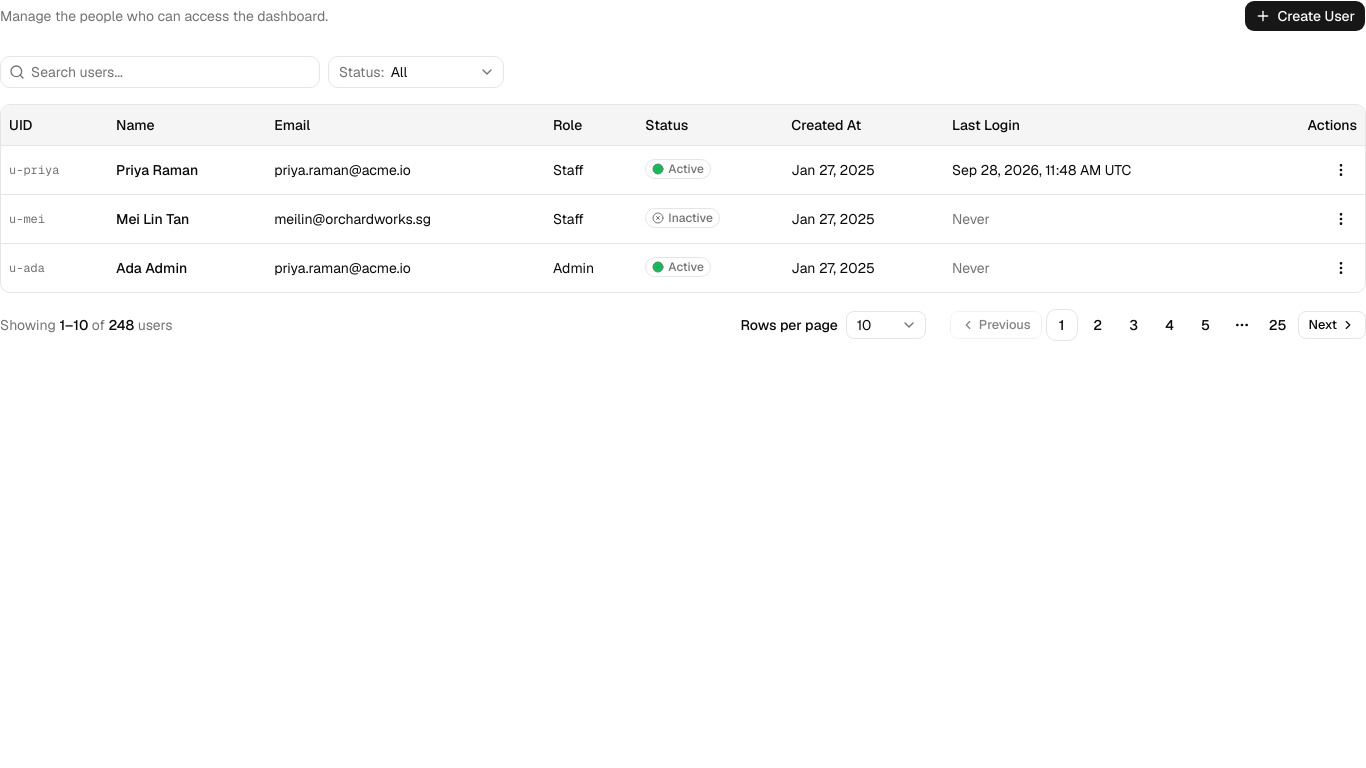
Test: UsersList row actions › saves only the fields that changed and reloads
Expected: the text "Priya Raman" is shown, [116,160,198,178]
Click the button named "Actions for Mei Lin Tan".
click(1341, 218)  # box [1325,202,1357,234]
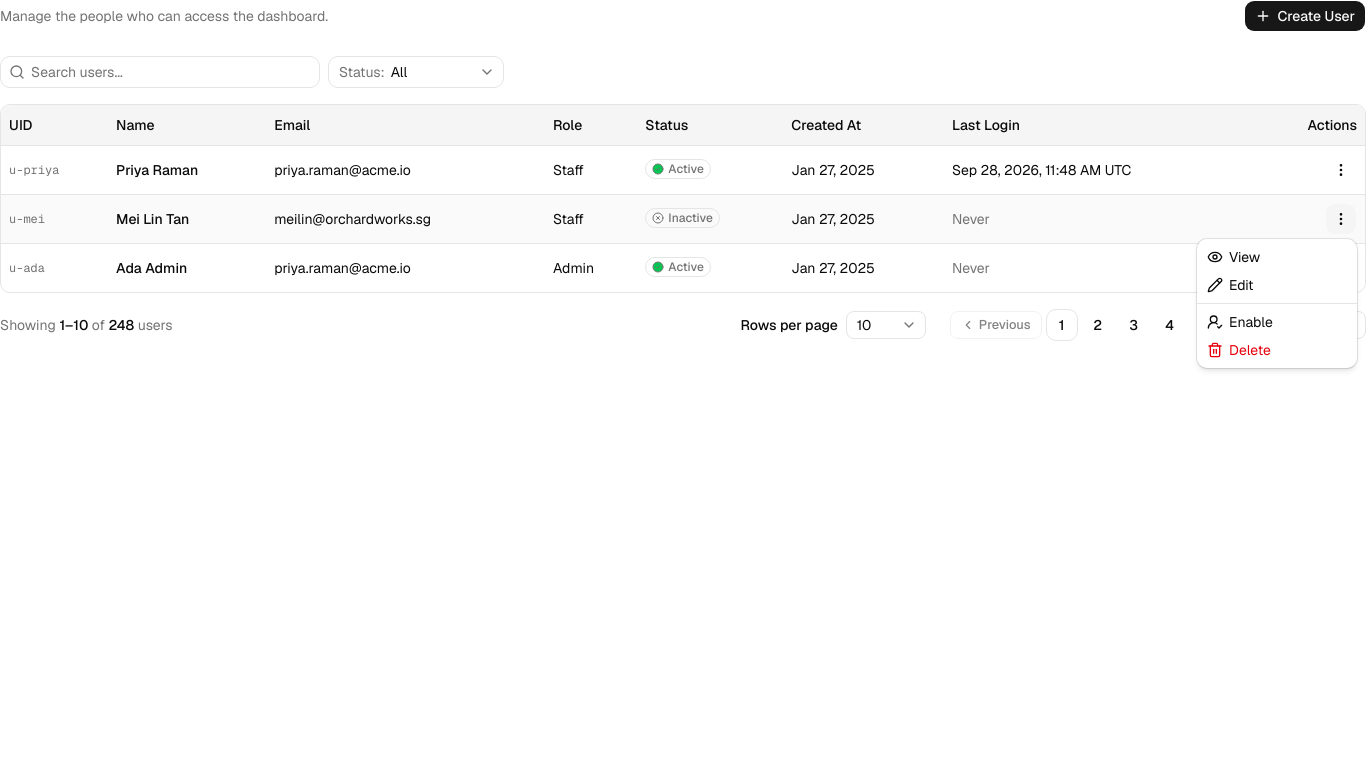
Click the menu item "Edit".
click(1230, 285)  # box [1207,276,1254,294]
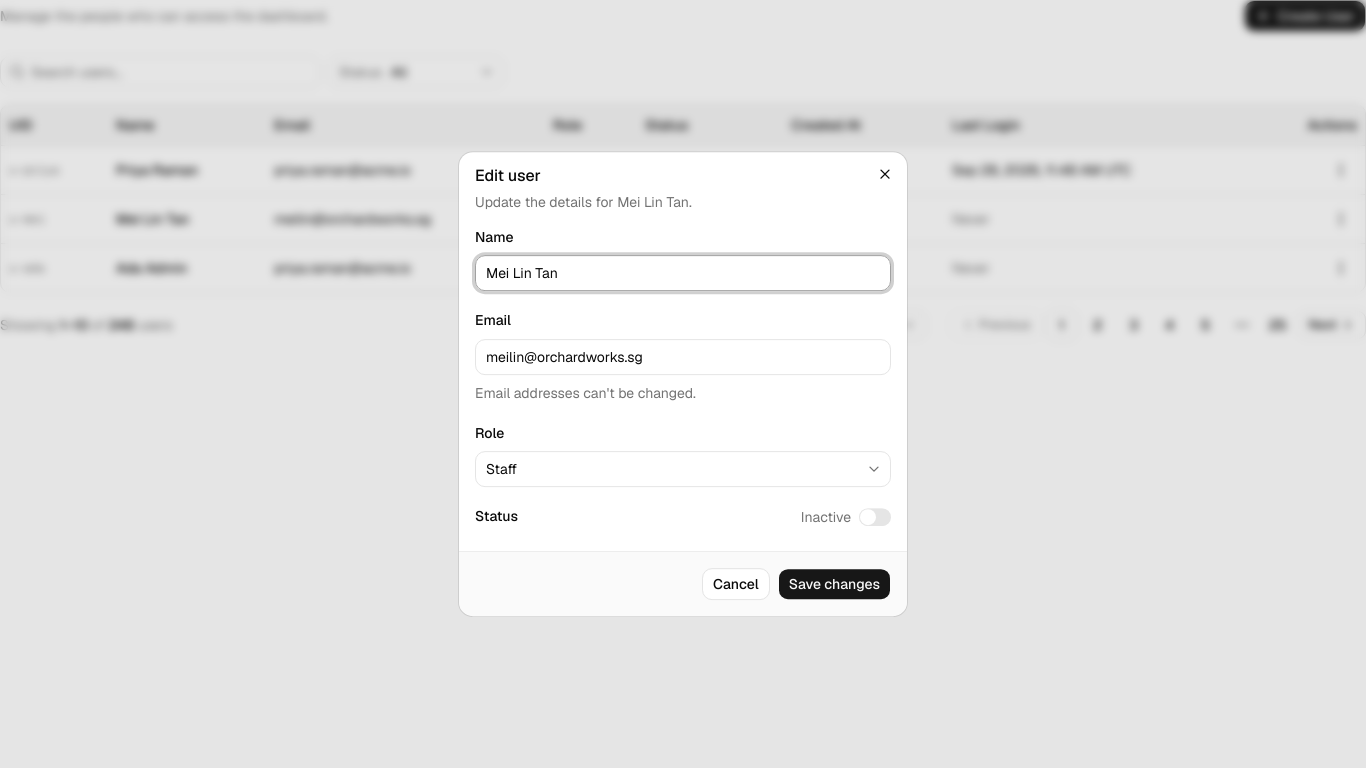
Expected: the field labelled "Name" holds "Mei Lin Tan", [475,255,891,291]
Expected: the switch named "Status" is not checked, [859,508,891,526]
Click the dropdown named "Role".
click(502, 469)  # box [475,451,891,487]
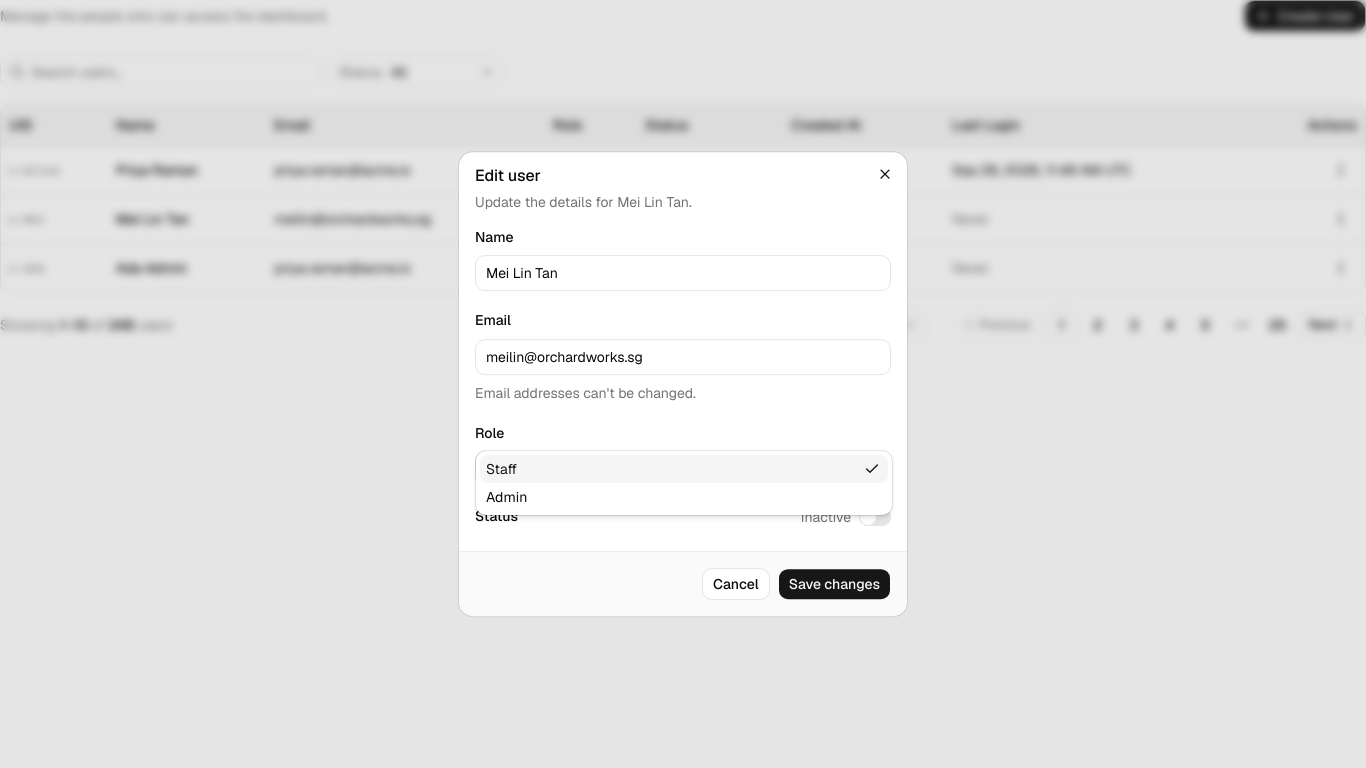
Click the option "Admin".
click(507, 497)  # box [486,488,527,506]
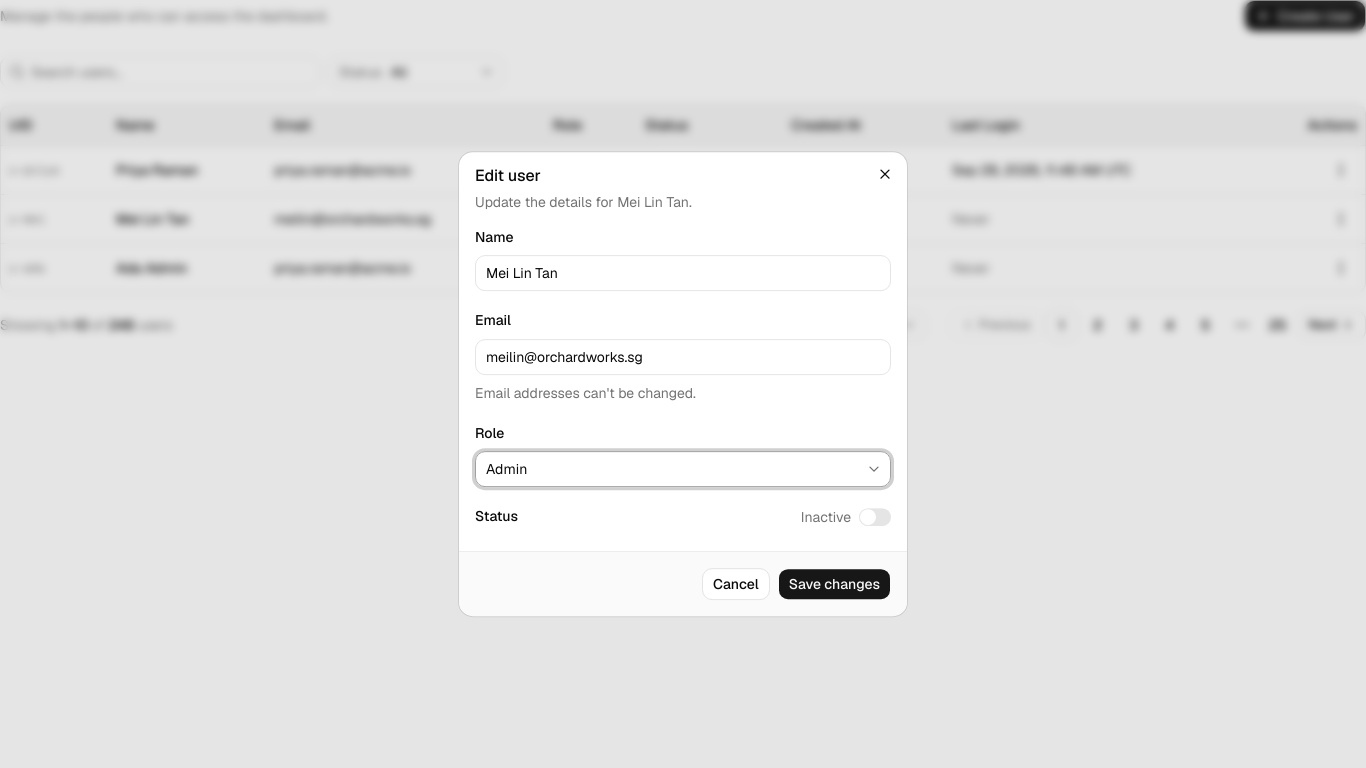
Click the button "Save changes".
click(834, 584)  # box [778,568,891,600]
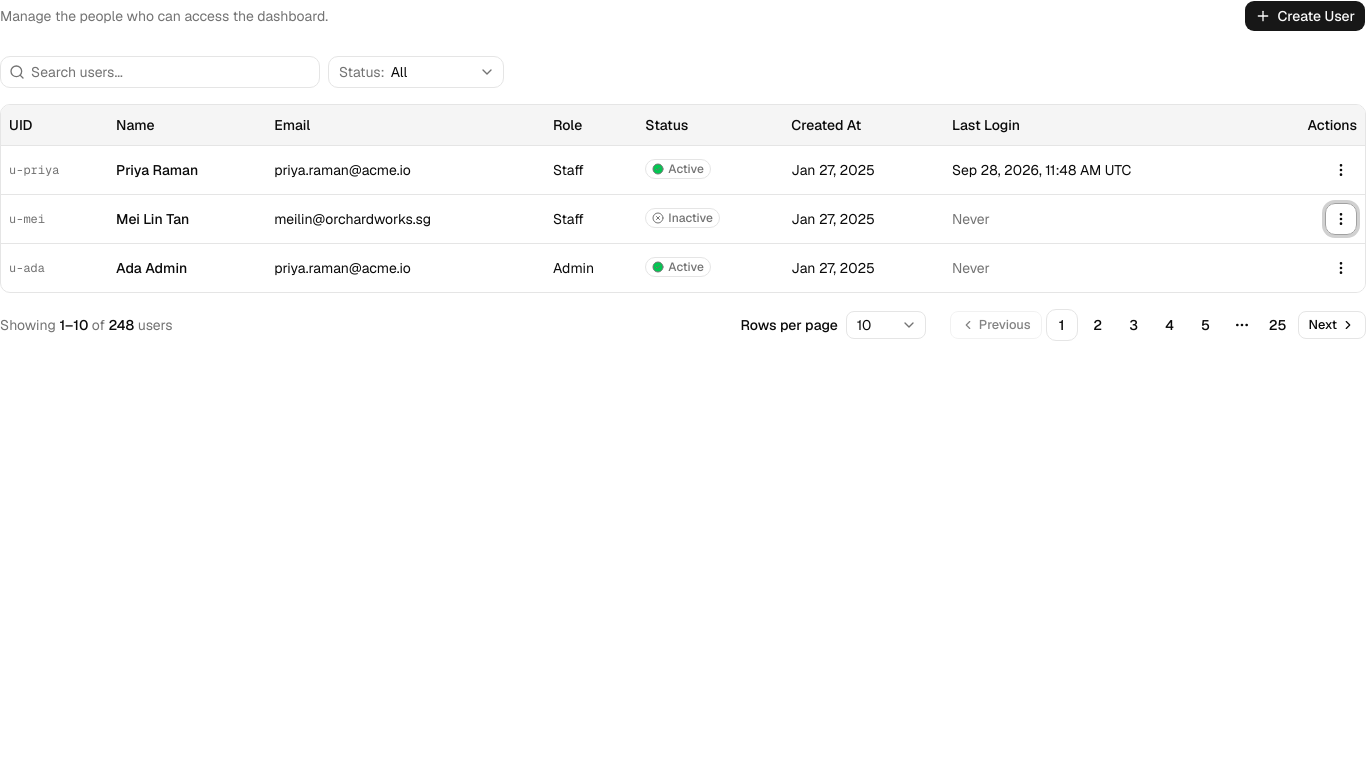
Expected: the dialog is gone
